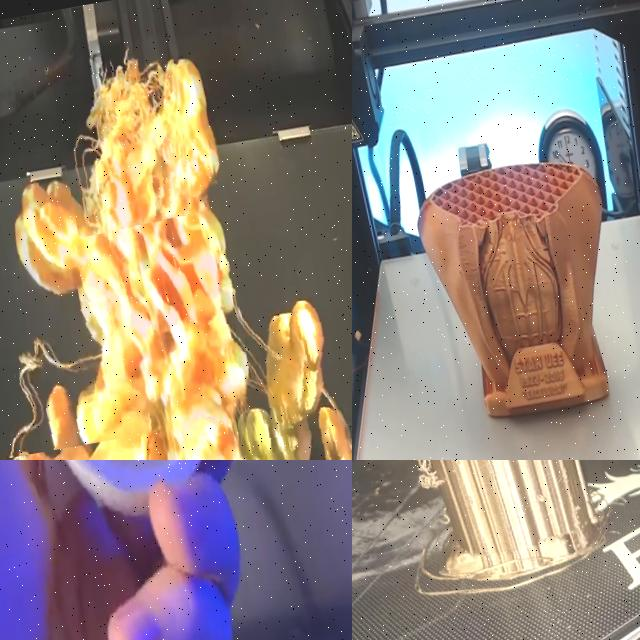spaghetti: (46, 36, 202, 238), (214, 276, 352, 460), (0, 287, 133, 459)
